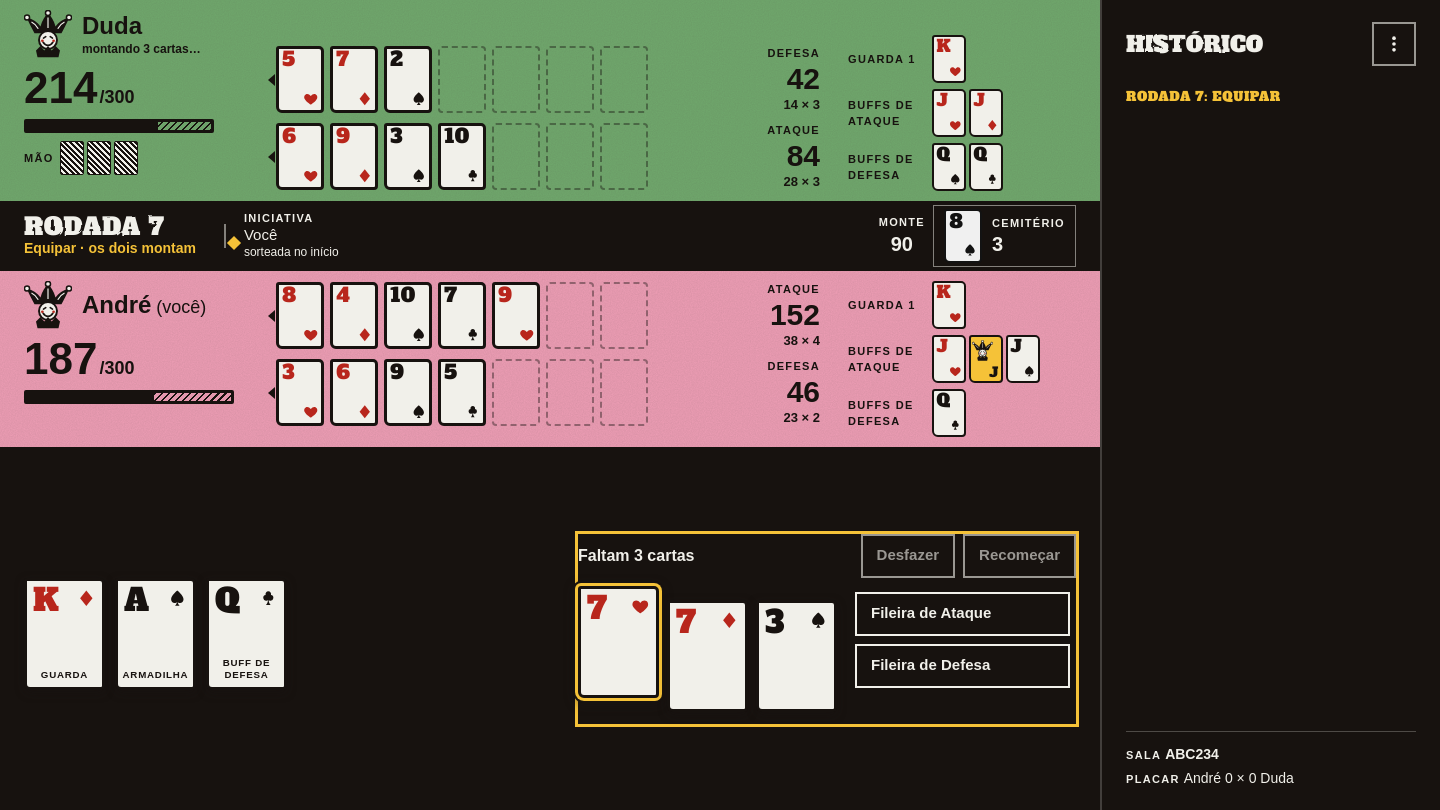
Equipar (spec §3.5; livre desde a E2 do sub-projeto 5) › Desfazer volta um passo, Recomeçar volta ao início
Click the button "Fileira de Ataque": (962, 614) [855,592,1070,636]
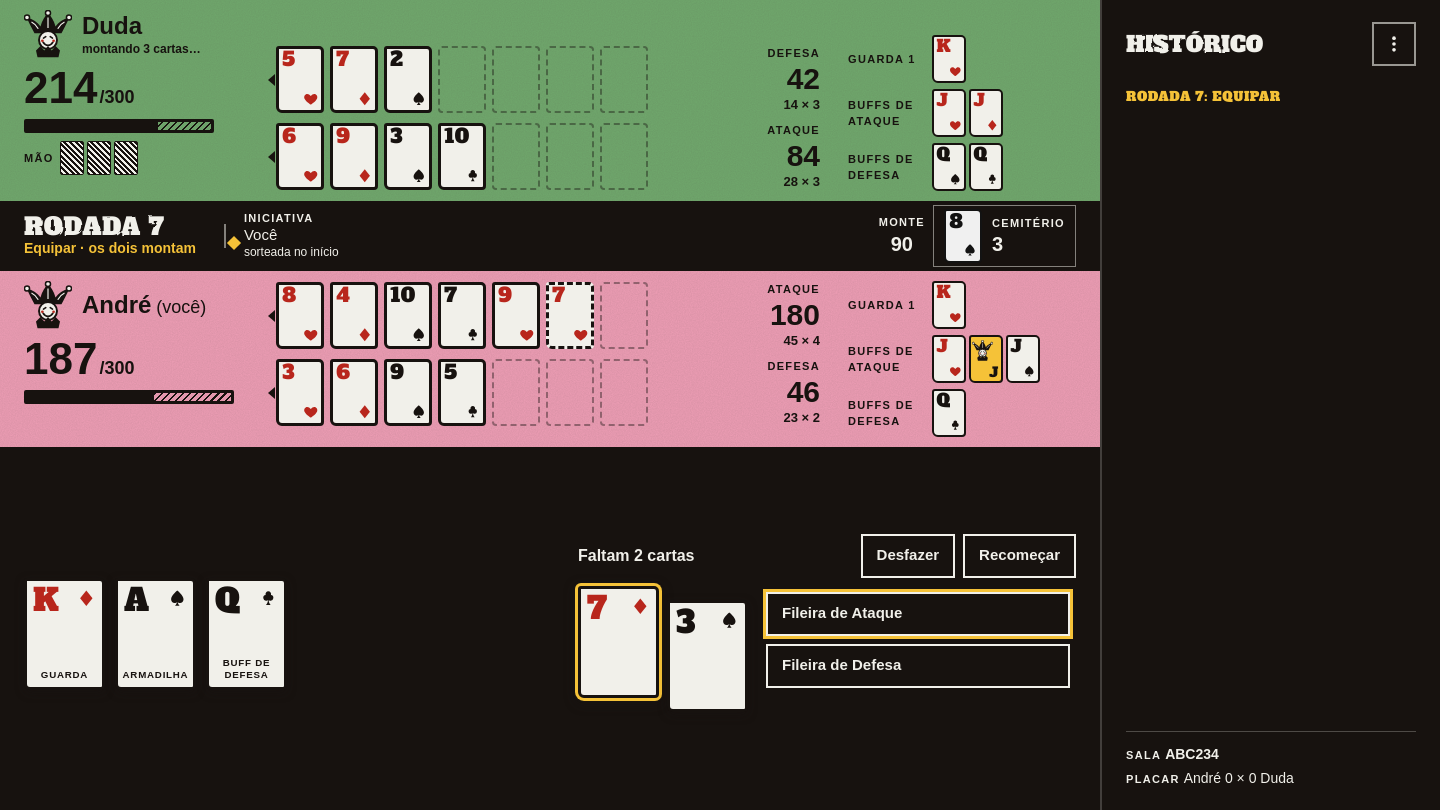
Click the button "Fileira de Defesa": (842, 665) [766,644,1070,688]
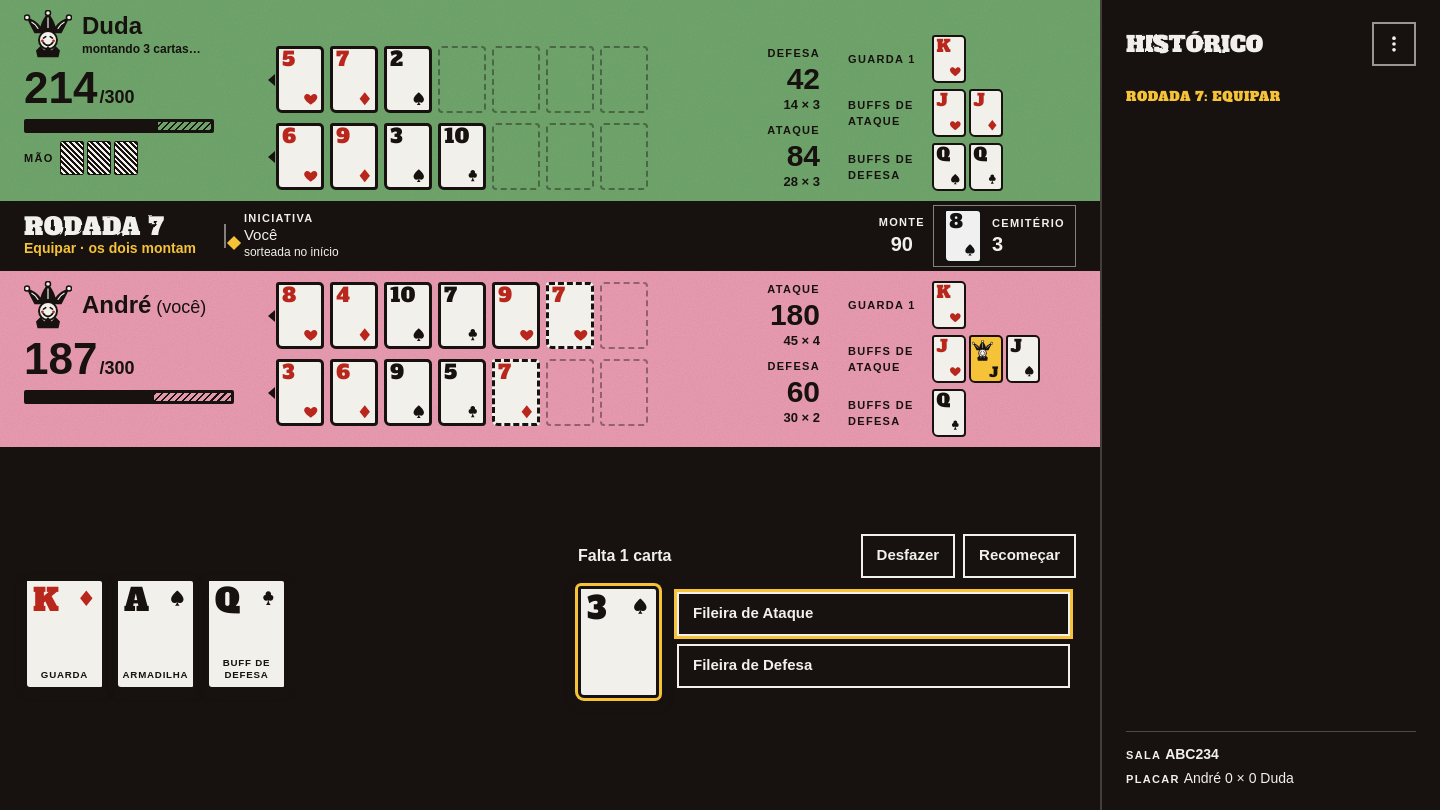
Now the text "Falta 1 carta" is shown, box [578,546,671,566]
Click the button "Desfazer": (908, 556) [861,534,955,578]
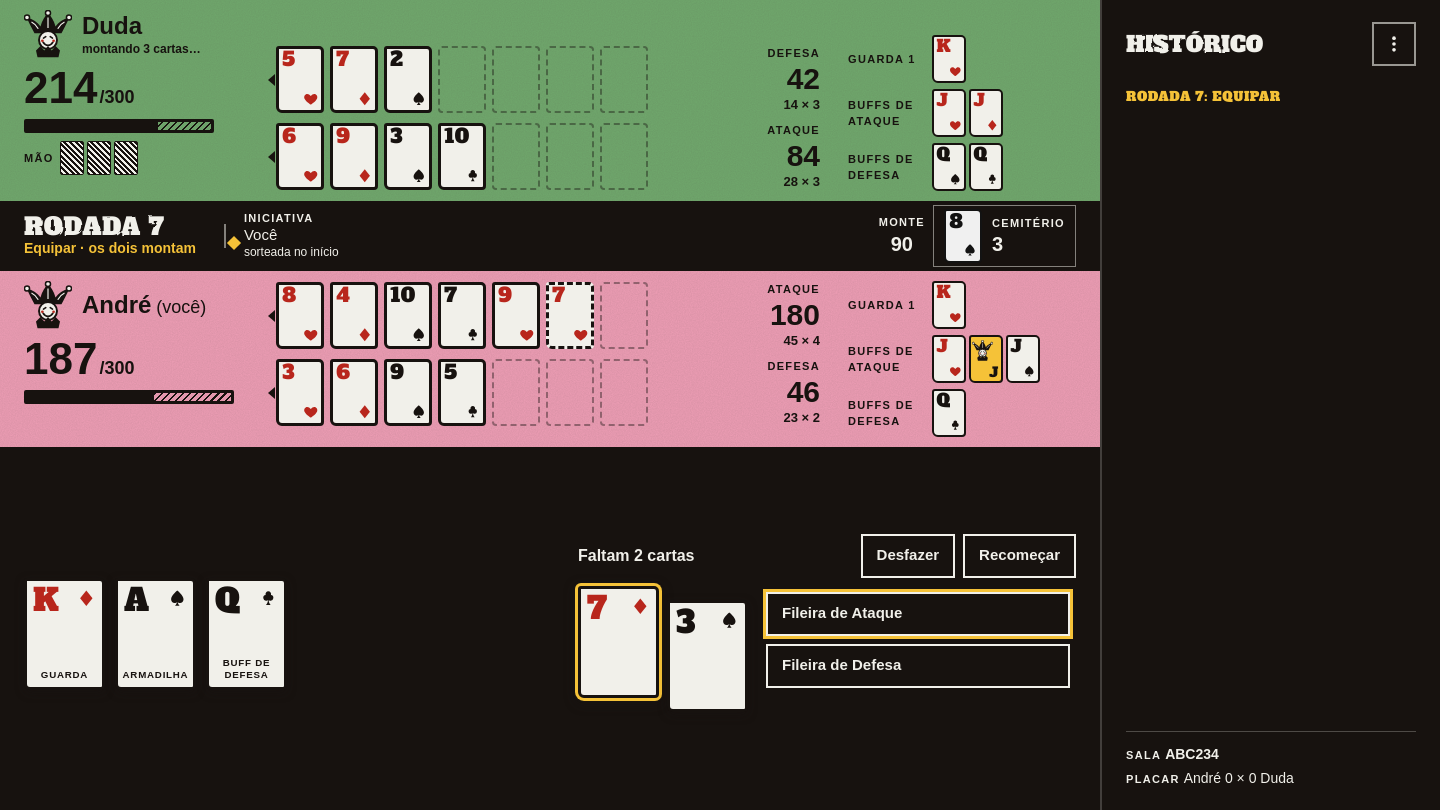
Now the text "Faltam 2 cartas" is shown, box [578,546,694,566]
Click the button "Fileira de Defesa": (842, 665) [766,644,1070,688]
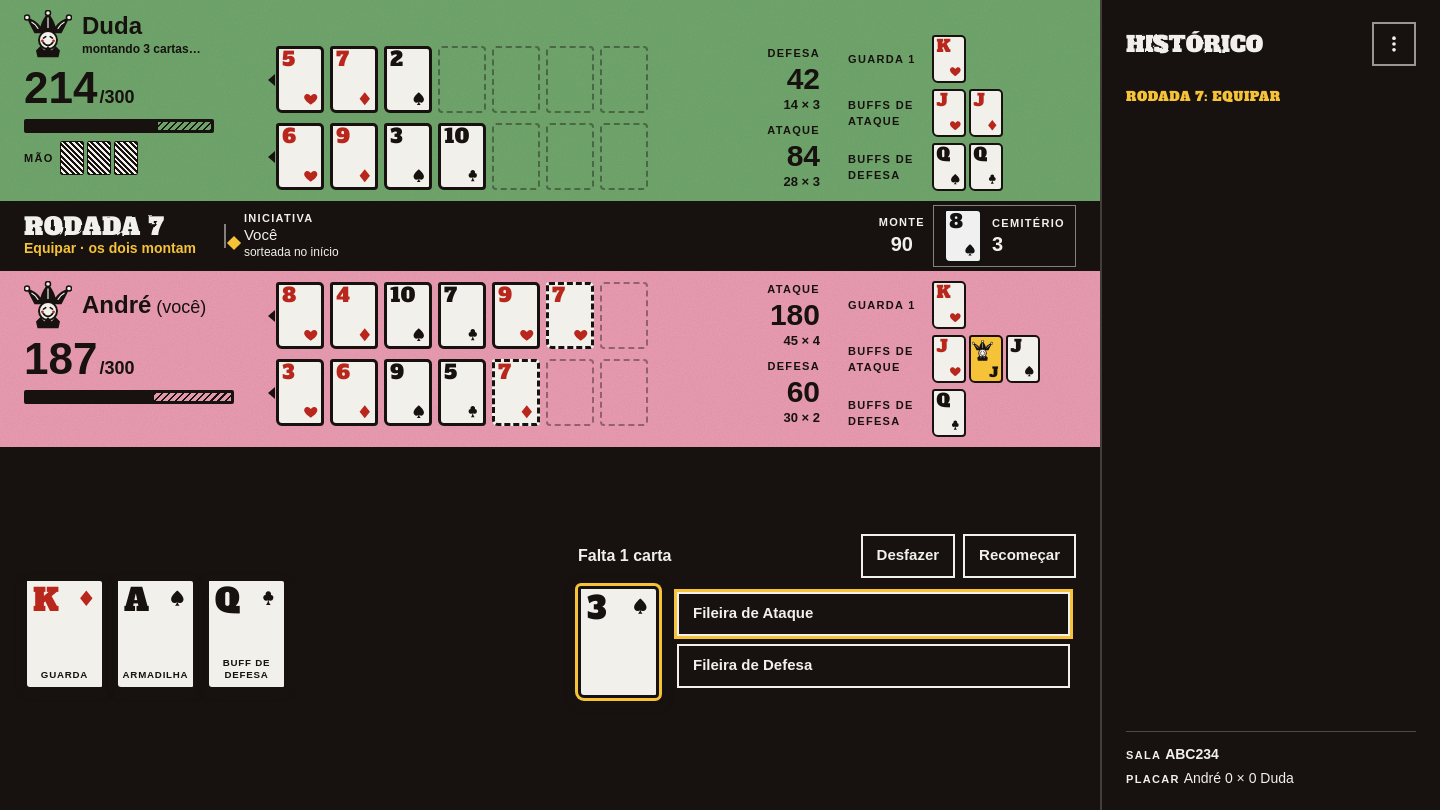
Click the button "Recomeçar": (1020, 556) [963,534,1076,578]
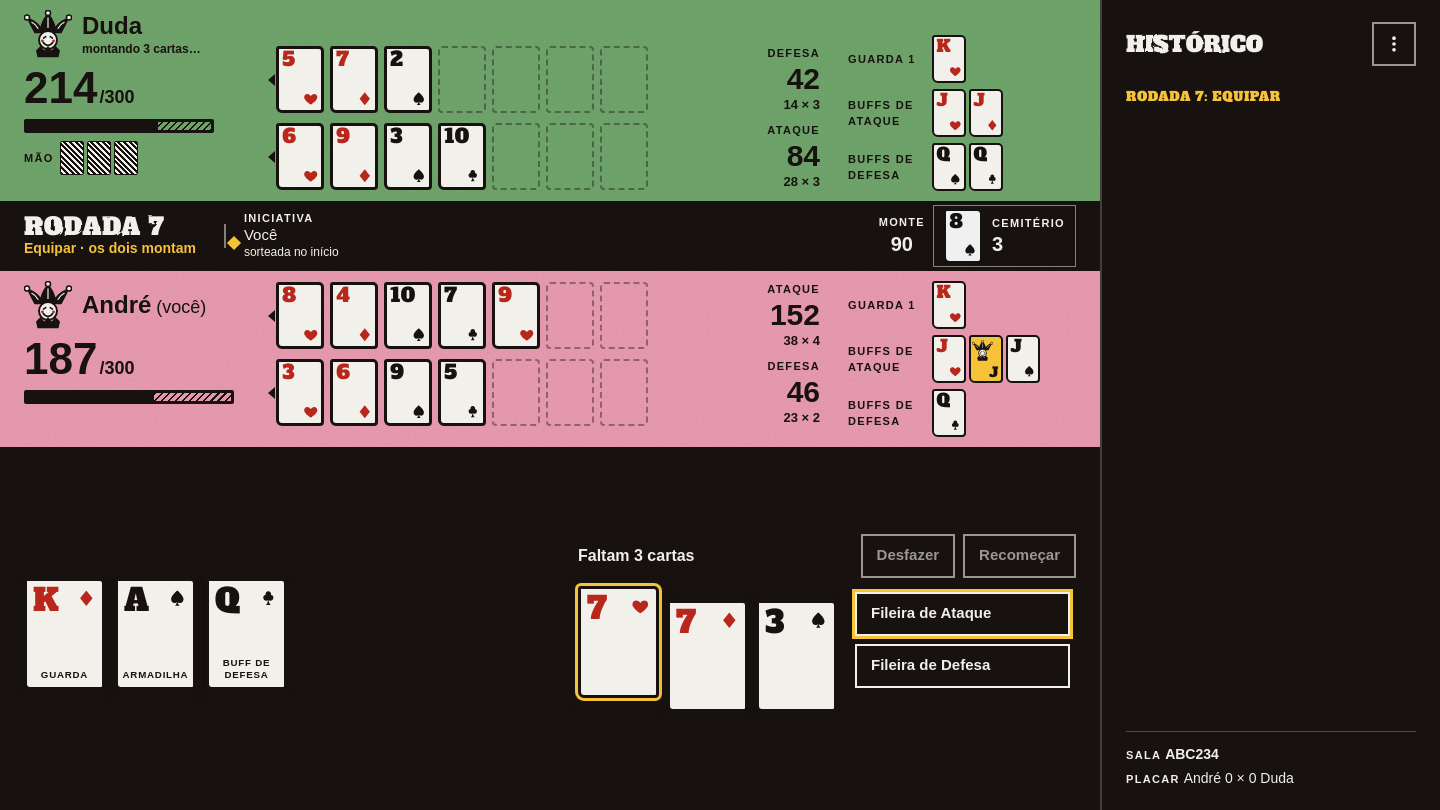
Now the text "Faltam 3 cartas" is shown, box [578,546,694,566]
